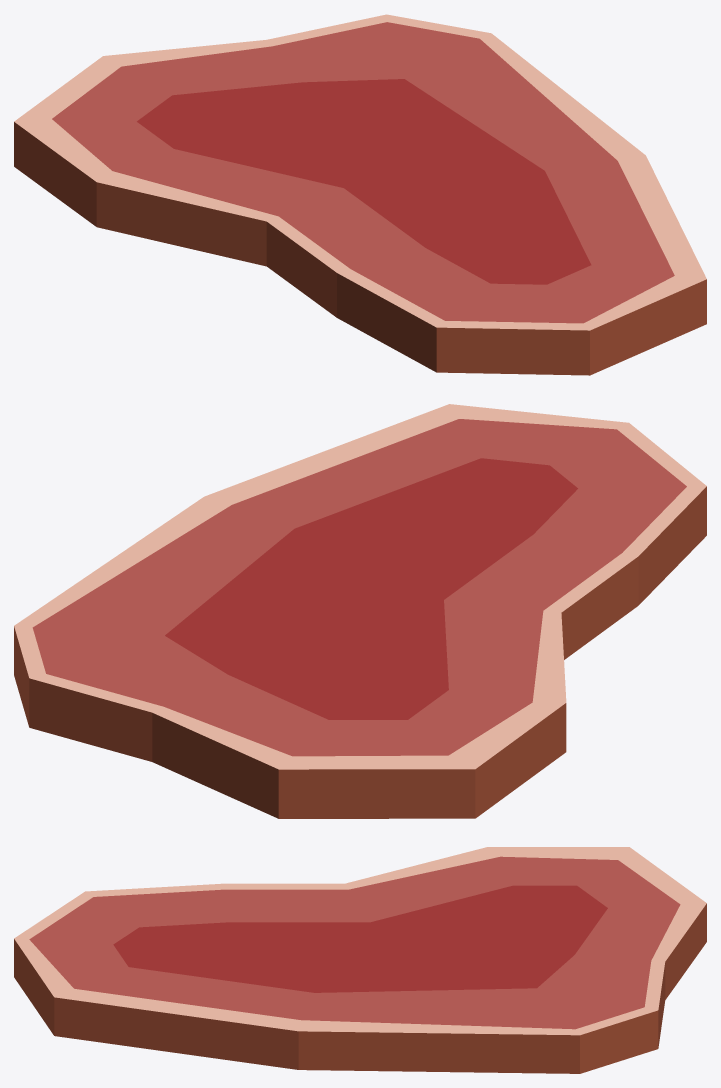
File: SM_Props_Interior_Shop_Butcher_04.fbx
3 views of the same model, one above another, from view 1: azimuth 30°, elevation 25°; view 2: azimuth 150°, elevation 25°; view 3: azimuth 270°, elevation 25° (orthographic). The views are drawn at different scales.
Visible parts, largest first — view 1: SM_Props_Interior_Shop_Butcher_04; view 2: SM_Props_Interior_Shop_Butcher_04; view 3: SM_Props_Interior_Shop_Butcher_04.
Part boxes in pixels (x1=…): SM_Props_Interior_Shop_Butcher_04: x1=14, y1=14, x2=706, y2=375; SM_Props_Interior_Shop_Butcher_04: x1=14, y1=404, x2=706, y2=818; SM_Props_Interior_Shop_Butcher_04: x1=14, y1=847, x2=706, y2=1073.
Size of the model in its own units: 41.75 by 4 by 64.95.
